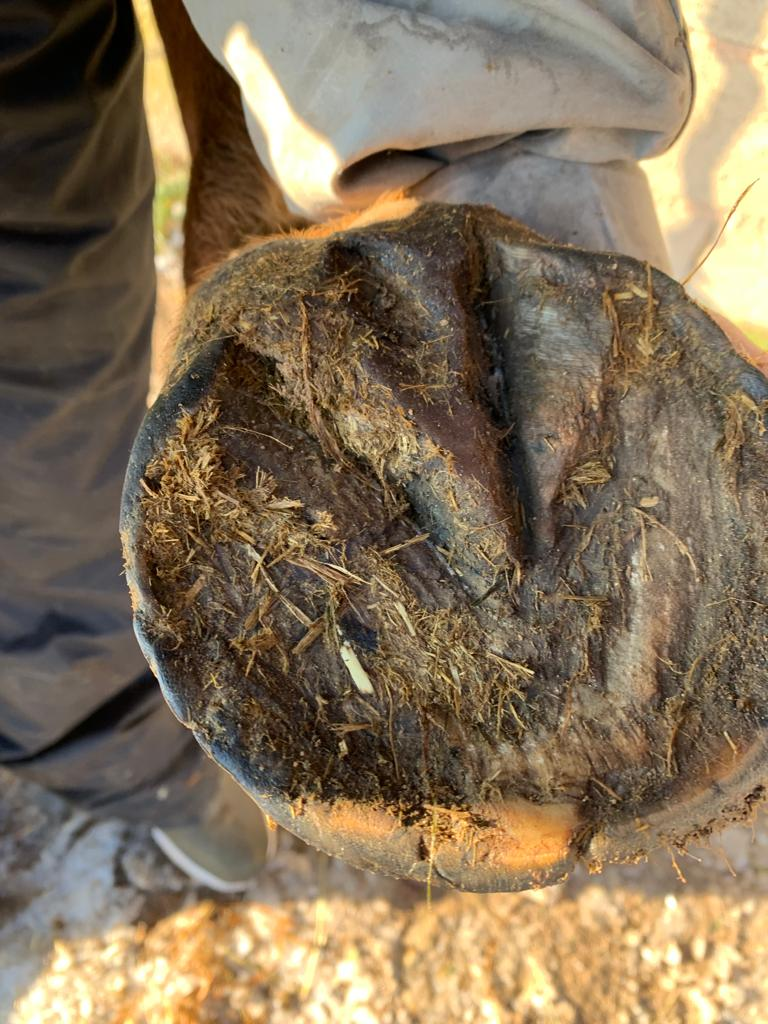horsesole: (121, 247, 768, 896)
